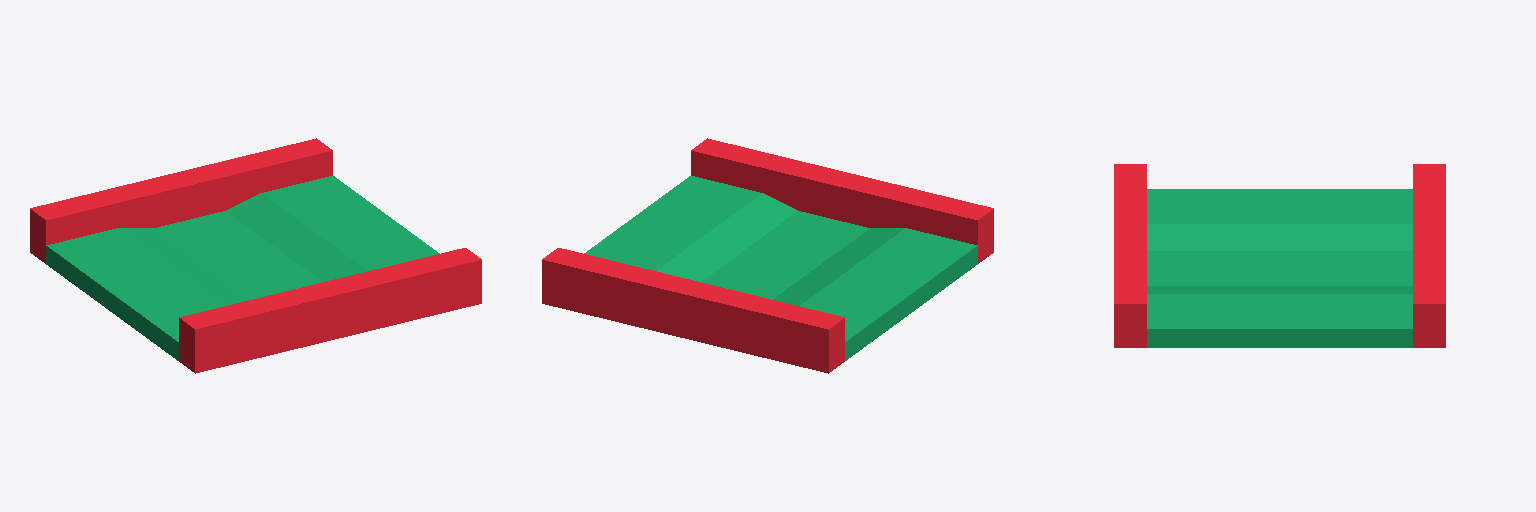
3 renders of one model, left to right at view 1: azimuth 30°, elevation 25°; view 2: azimuth 150°, elevation 25°; view 3: azimuth 270°, elevation 25°, orthographic.
Parts seen in each view (by area): view 1: crest; view 2: crest; view 3: crest.
Boxes of the visible parts, box(x1,y1,x2,y2) form: crest: box(30, 138, 481, 373); crest: box(542, 138, 993, 373); crest: box(1114, 164, 1445, 347).
Bounding box in the file's own units: 1 × 0.1467 × 1.